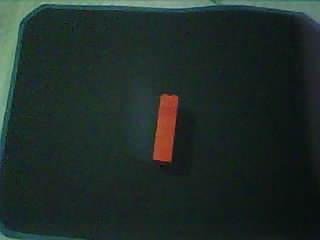lego: (152, 93, 180, 162)
